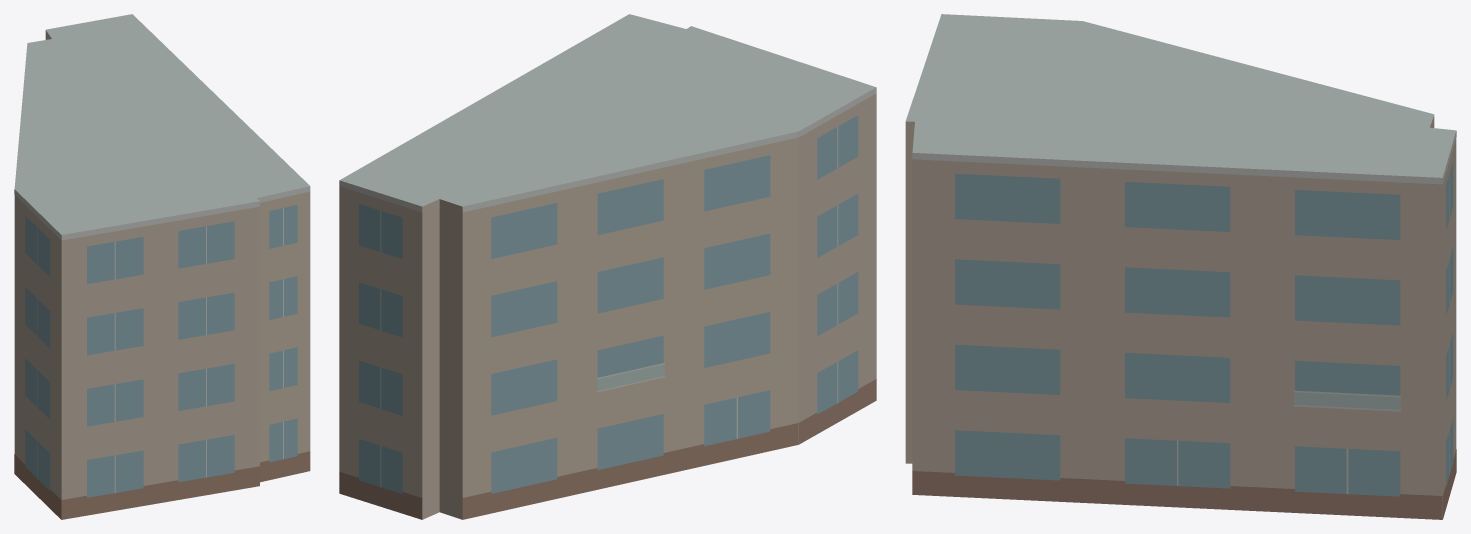
The model's file is survey-upis-32732743.glb.
3 renders of one model, left to right at view 1: azimuth 30°, elevation 25°; view 2: azimuth 150°, elevation 25°; view 3: azimuth 270°, elevation 25°, orthographic. The views are drawn at different scales.
Parts seen in each view (by area): view 1: survey-upis-32732743.tmp; view 2: survey-upis-32732743.tmp; view 3: survey-upis-32732743.tmp.
Boxes of the visible parts, x1,y1,x2,y2 form: survey-upis-32732743.tmp: [14, 14, 310, 519]; survey-upis-32732743.tmp: [339, 14, 876, 519]; survey-upis-32732743.tmp: [905, 14, 1456, 519].
Bounding box in the file's own units: 13.16 × 12.8 × 18.7.
